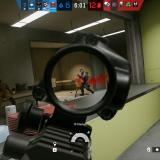Character: (0, 80, 17, 108), (77, 69, 94, 96)
Head: (80, 68, 84, 74)
